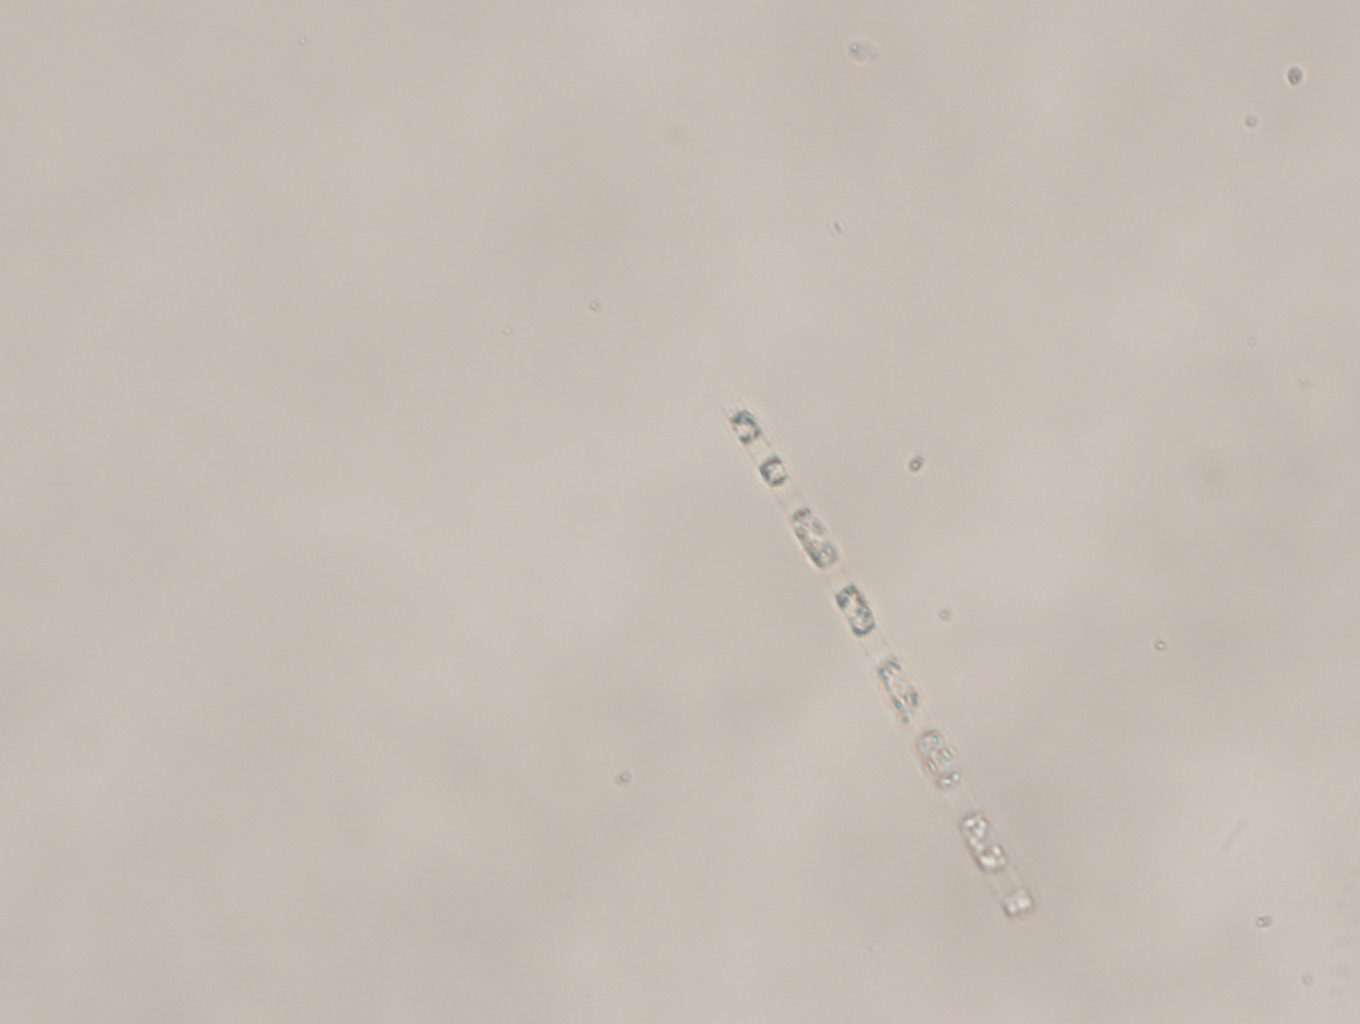skeletonema: (715, 392, 1037, 927)
